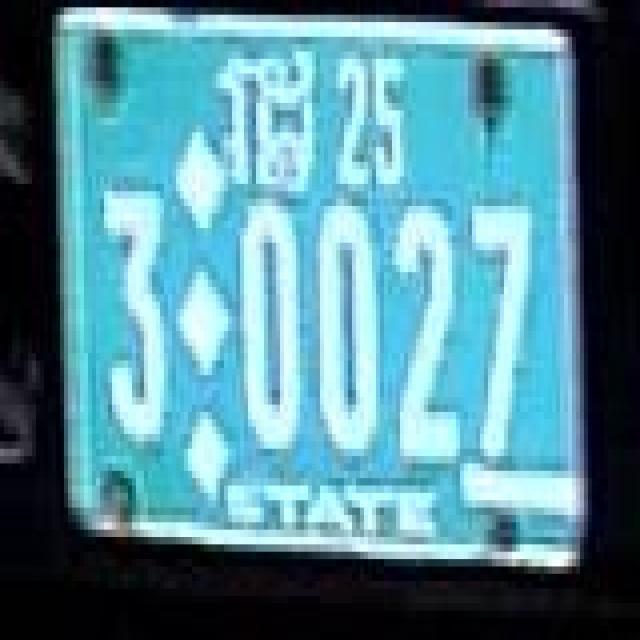State: (216, 44, 316, 197)
